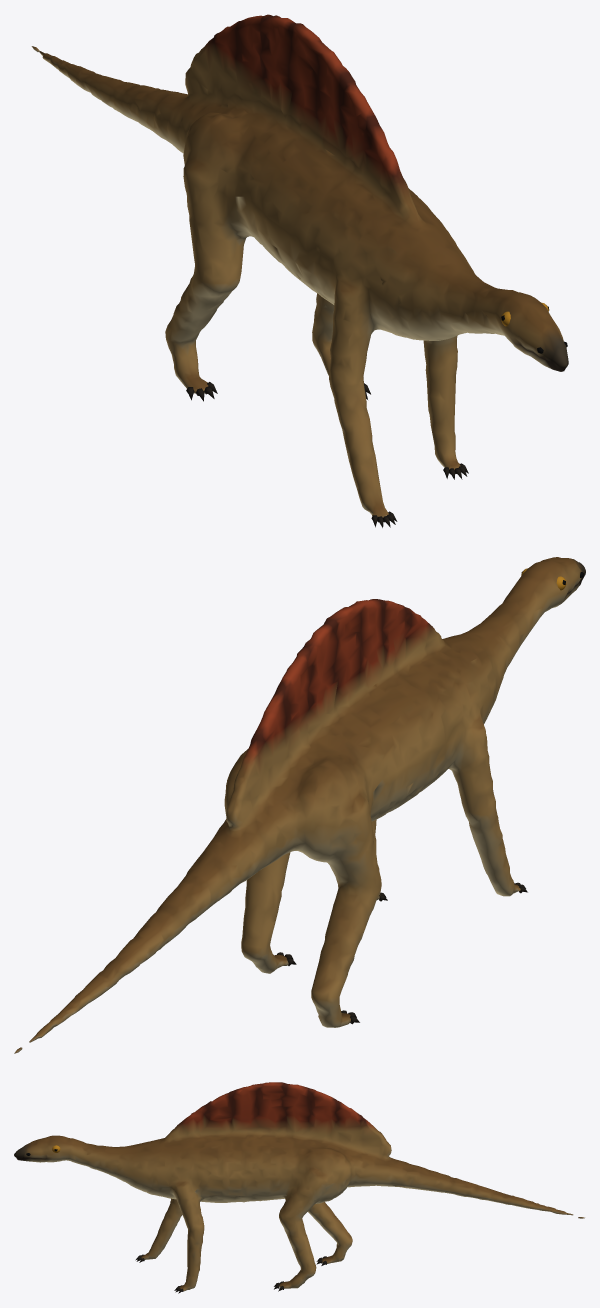
The model's file is Lotosaurus.fbx.
3 views of the same model, one above another, from view 1: azimuth 30°, elevation 25°; view 2: azimuth 150°, elevation 25°; view 3: azimuth 270°, elevation 25° (orthographic). The views are drawn at different scales.
Visible parts, largest first — view 1: Lotosaurus; view 2: Lotosaurus; view 3: Lotosaurus.
Boxes of the visible parts, <box> form: Lotosaurus: <box>31,14,568,527</box>; Lotosaurus: <box>14,557,585,1053</box>; Lotosaurus: <box>14,1082,584,1293</box>.
Bounding box in the file's own units: 0.2977 × 0.7407 × 1.97.
